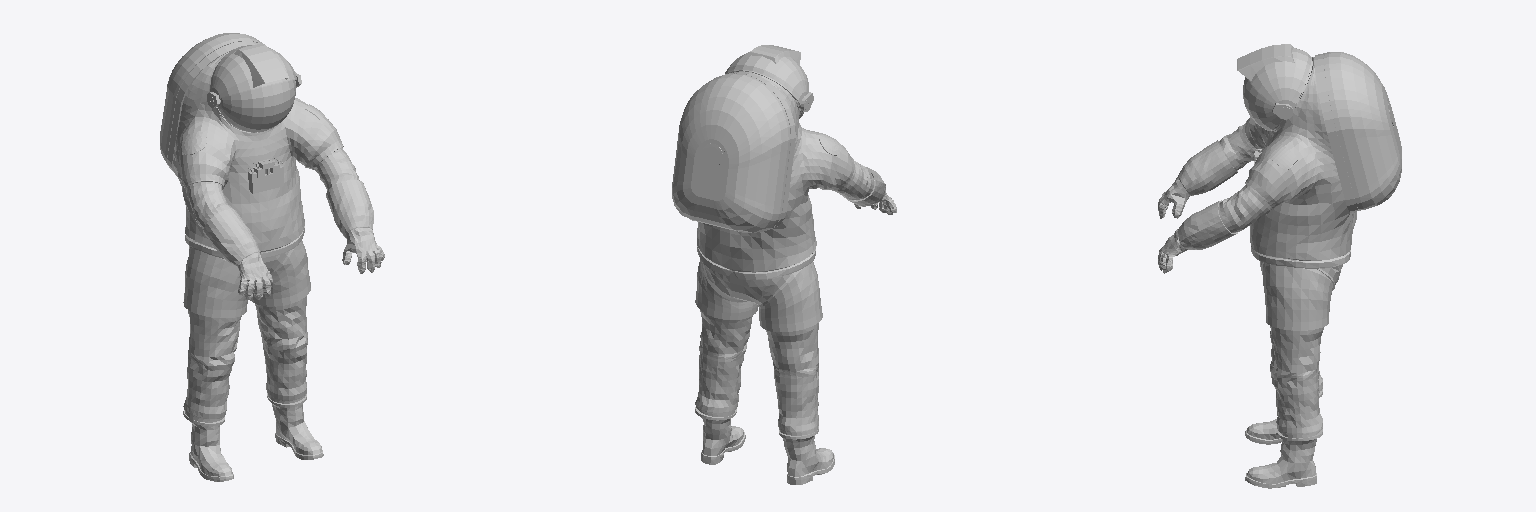
File: nasa.obj
The picture shows the model from 3 angles: view 1: azimuth 30°, elevation 25°; view 2: azimuth 150°, elevation 25°; view 3: azimuth 270°, elevation 25°; orthographic projection.
Visible parts, largest first — view 1: Default.001, Default.002, ZBrushPolyMesh3D.002, ZBrushPolyMesh3D, Default, ZBrushPolyMesh3D.001, Default.003; view 2: Default.002, Default.001, ZBrushPolyMesh3D.002, ZBrushPolyMesh3D, Default, Default.003; view 3: Default.002, Default.001, ZBrushPolyMesh3D.002, ZBrushPolyMesh3D, Default, Default.003, ZBrushPolyMesh3D.001.
Boxes of the visible parts, <box> form: Default.001: <box>183,45,384,481</box>; Default.002: <box>160,33,310,418</box>; ZBrushPolyMesh3D.002: <box>173,52,304,258</box>; ZBrushPolyMesh3D: <box>176,98,343,190</box>; Default: <box>168,42,324,154</box>; ZBrushPolyMesh3D.001: <box>181,107,294,183</box>; Default.003: <box>168,42,258,174</box>; Default.002: <box>672,73,822,431</box>; Default.001: <box>695,52,896,484</box>; ZBrushPolyMesh3D.002: <box>697,79,816,279</box>; ZBrushPolyMesh3D: <box>801,127,855,190</box>; Default: <box>702,45,841,188</box>; Default.003: <box>729,72,795,230</box>; Default.002: <box>1254,52,1401,433</box>; Default.001: <box>1158,48,1342,488</box>; ZBrushPolyMesh3D.002: <box>1250,57,1356,268</box>; ZBrushPolyMesh3D: <box>1245,117,1318,208</box>; Default: <box>1237,44,1393,210</box>; Default.003: <box>1314,53,1357,212</box>; ZBrushPolyMesh3D.001: <box>1268,125,1323,199</box>.
Bounding box in the file's own units: 0.7944 × 1.94 × 1.04.